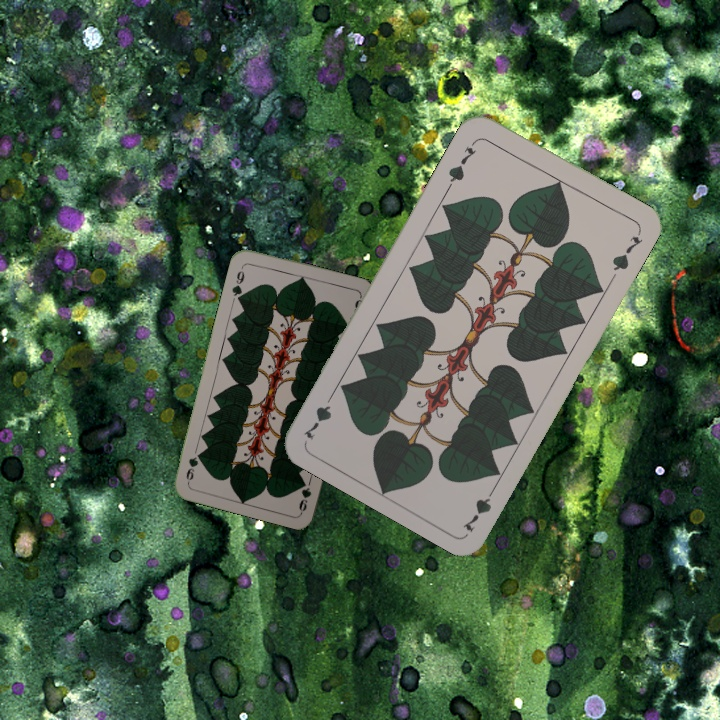G7: (458, 480, 500, 535), (444, 135, 480, 189)
G9: (228, 261, 247, 302), (295, 478, 314, 514)
